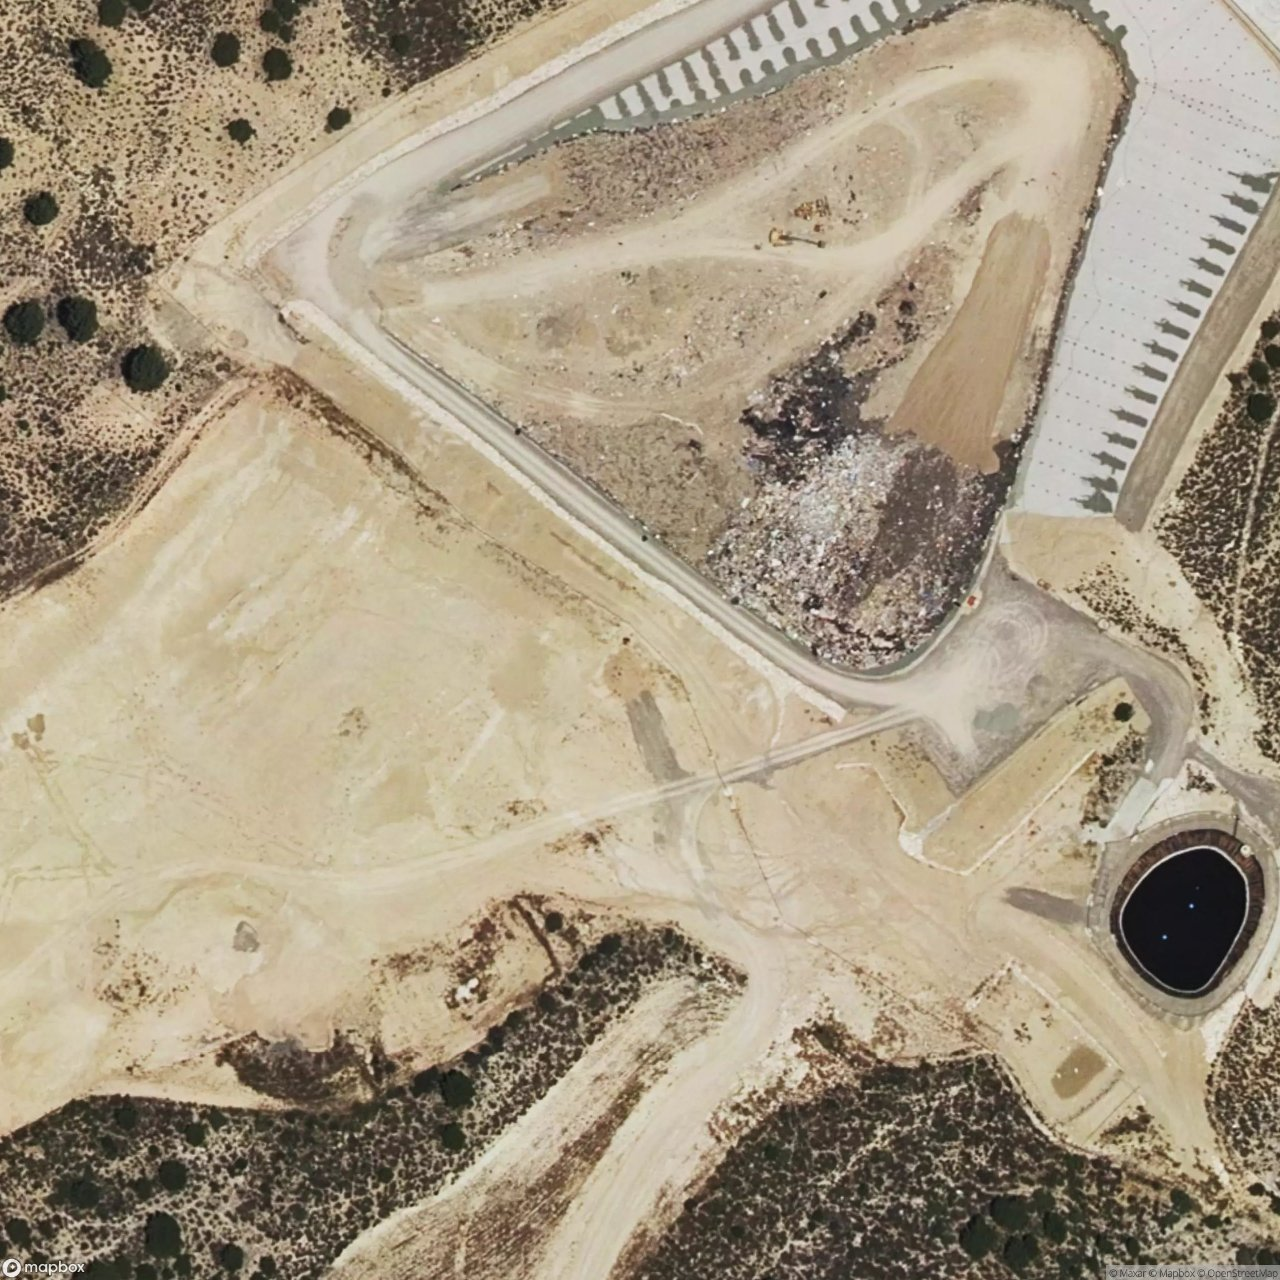dump_site: (679, 409, 1016, 687)
